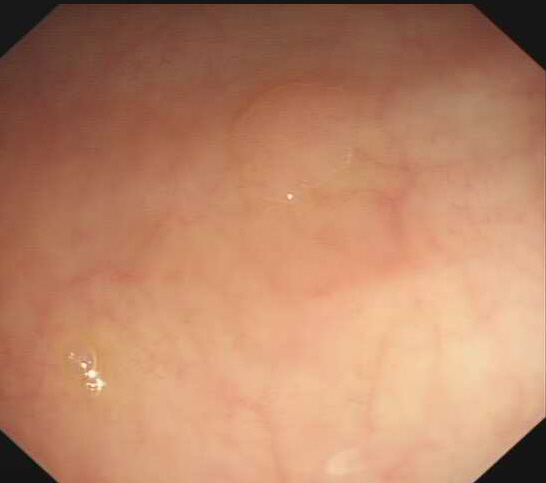others: (224, 77, 359, 205)
